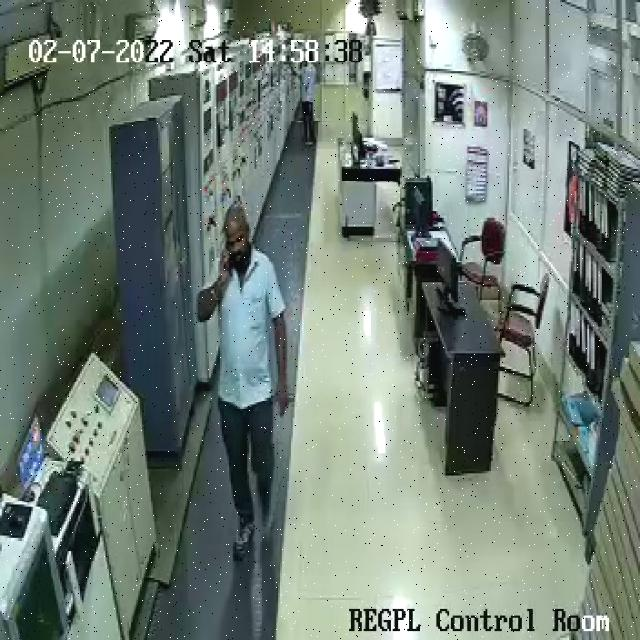Boots: (260, 494, 280, 547), (236, 508, 255, 560)
